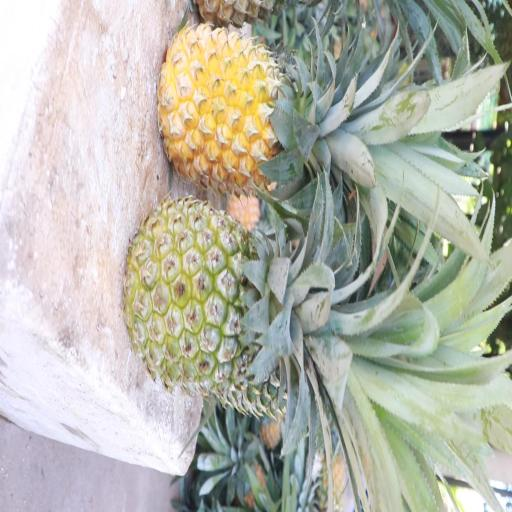------------------------------: (128, 202, 316, 383)
Pineapple - v8 v1: (159, 28, 332, 188)
